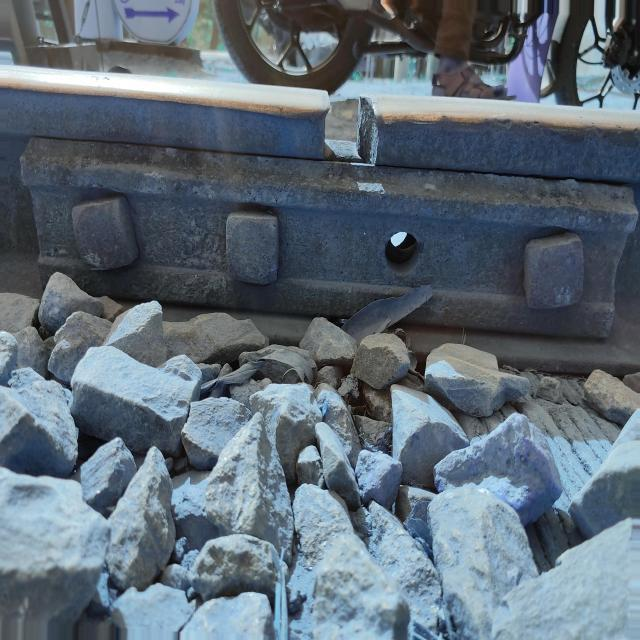Defective Joint: (22, 137, 640, 306)
